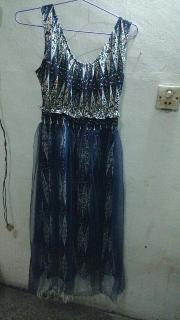vest: (27, 4, 132, 304)
